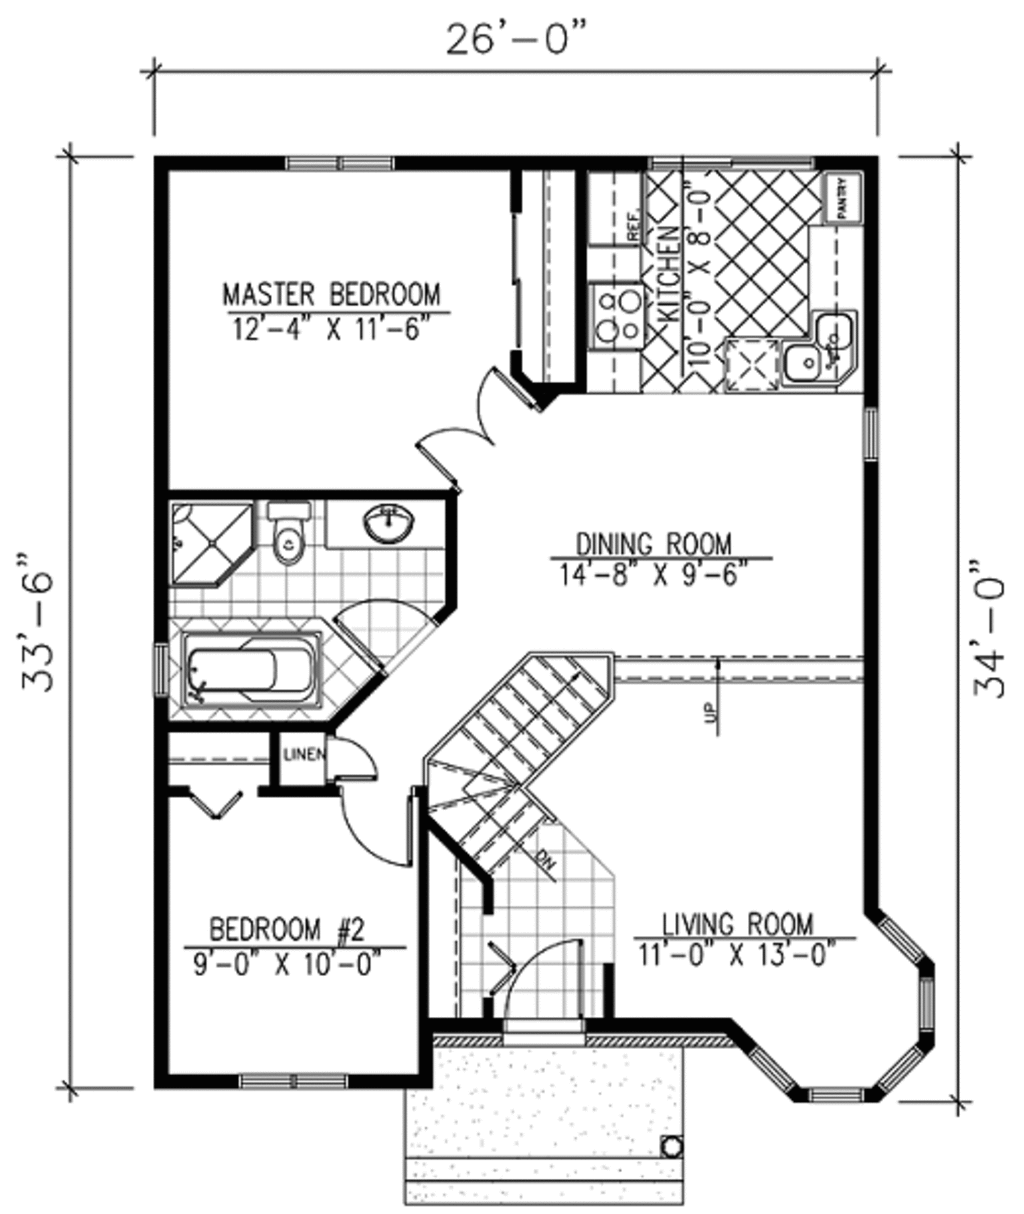door: (401, 365, 538, 490), (488, 933, 592, 1053), (322, 590, 438, 672), (335, 781, 425, 872), (327, 734, 388, 790)
large_sink: (248, 496, 316, 574)
small_sink: (327, 501, 442, 555)
stairs: (423, 644, 649, 918)
tub: (185, 627, 323, 720)
twin_sink: (773, 307, 860, 388)
window: (279, 146, 405, 183), (235, 1061, 353, 1098), (648, 151, 812, 172), (860, 409, 883, 464)
